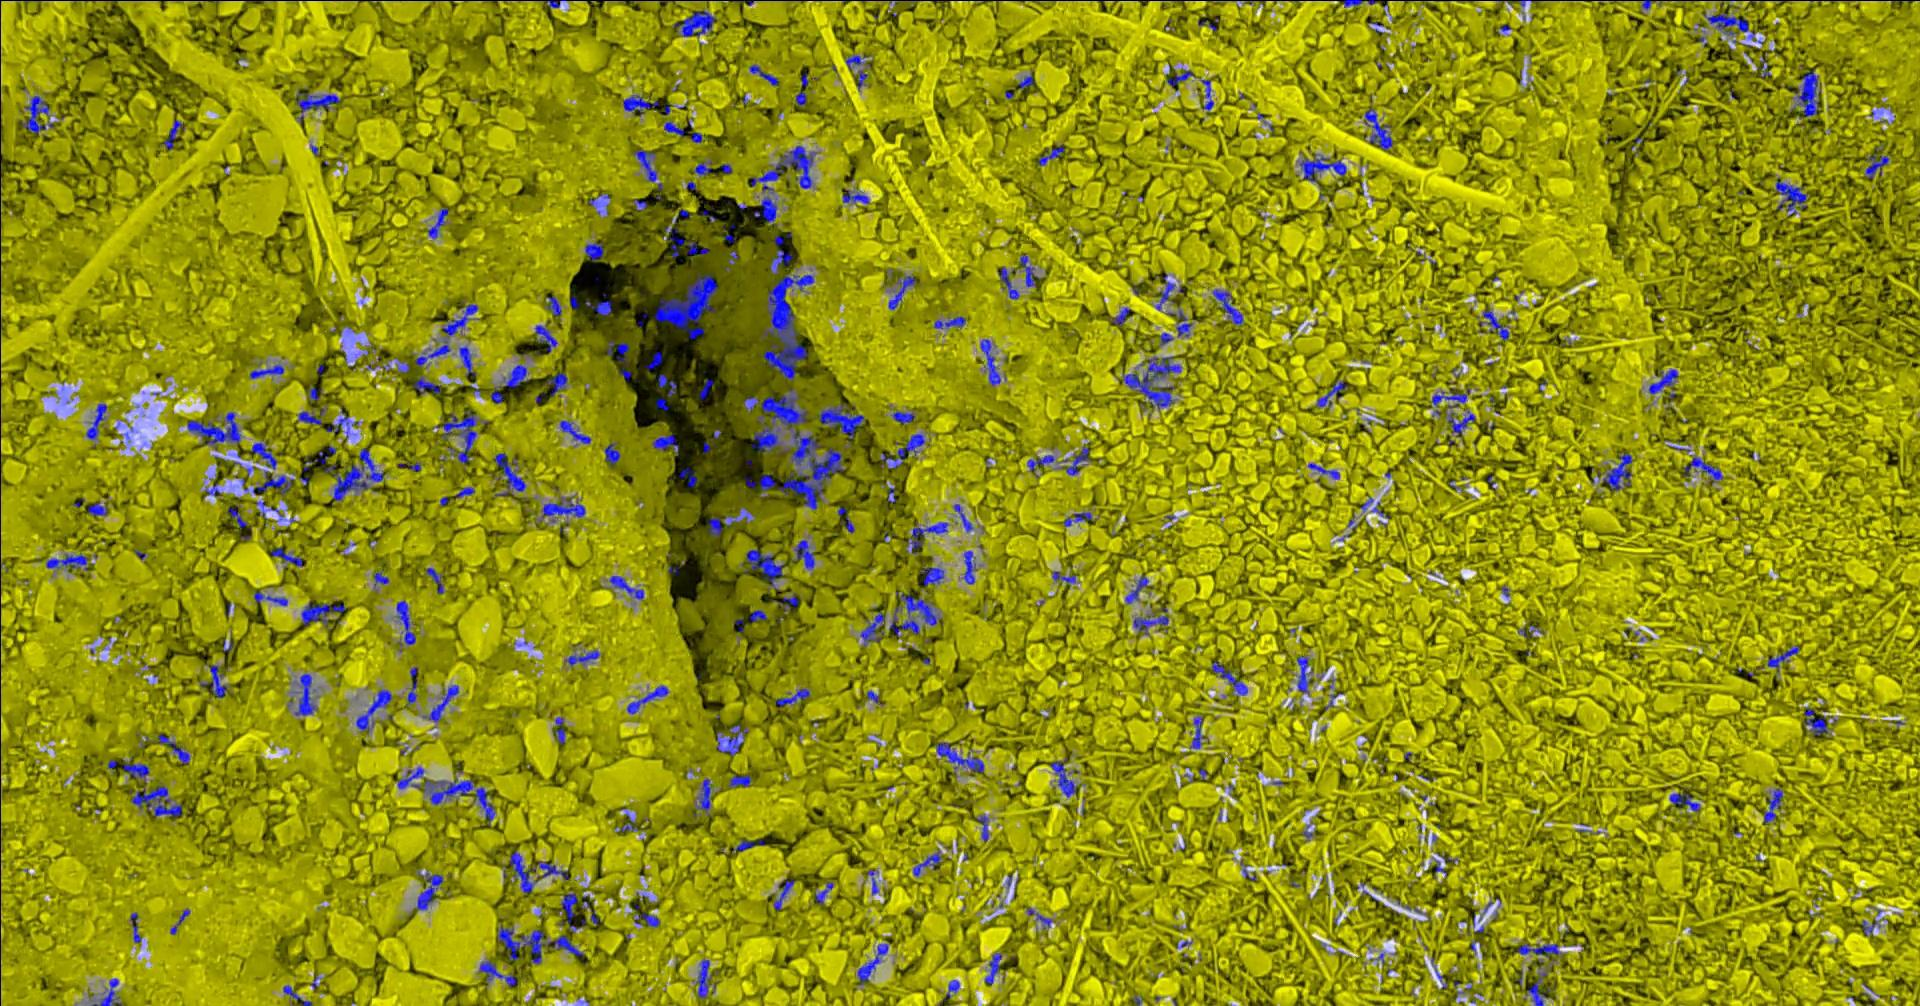ant: (415, 304, 477, 367), (422, 779, 494, 826), (323, 447, 383, 500), (497, 926, 583, 963), (750, 145, 817, 192), (509, 850, 569, 892), (1431, 382, 1476, 436), (436, 412, 476, 464), (187, 412, 240, 450), (1702, 11, 1763, 44), (742, 549, 786, 592), (818, 404, 863, 445), (935, 742, 983, 776), (130, 785, 182, 815), (895, 589, 940, 625), (356, 688, 391, 733), (879, 433, 924, 467), (422, 683, 458, 721), (1596, 452, 1632, 492), (664, 226, 709, 257), (295, 91, 340, 121), (494, 452, 524, 495), (1299, 152, 1346, 180), (857, 942, 888, 984), (1363, 107, 1392, 150), (907, 522, 947, 553), (300, 601, 345, 627), (1211, 661, 1247, 695), (22, 95, 53, 133), (1775, 177, 1807, 215), (626, 685, 668, 713), (1796, 71, 1820, 119), (980, 338, 1004, 385), (1476, 305, 1509, 339), (1211, 290, 1243, 325), (888, 605, 923, 636), (673, 10, 715, 37), (604, 339, 631, 381), (1683, 456, 1722, 483), (1050, 757, 1077, 796), (415, 871, 442, 909), (325, 409, 358, 439), (396, 600, 415, 652), (479, 960, 516, 987), (157, 733, 189, 763), (541, 495, 585, 517), (251, 471, 293, 494), (1133, 607, 1168, 634), (858, 611, 885, 647), (716, 724, 747, 754), (888, 276, 916, 309), (770, 235, 792, 274), (248, 439, 277, 469), (295, 673, 315, 715), (1316, 380, 1347, 406), (1768, 645, 1799, 672), (608, 575, 643, 600), (44, 553, 88, 572), (1062, 446, 1090, 475), (557, 893, 578, 932), (91, 978, 121, 1005), (692, 779, 711, 819), (622, 94, 658, 116), (632, 149, 657, 180), (1528, 972, 1550, 1005), (696, 959, 715, 998), (85, 403, 105, 439), (1164, 309, 1191, 337), (912, 851, 941, 876), (559, 420, 590, 443), (997, 265, 1018, 298), (1125, 575, 1150, 603), (744, 474, 775, 497), (1026, 453, 1054, 478), (1803, 708, 1827, 735), (773, 876, 794, 909), (753, 196, 776, 225), (1648, 370, 1677, 392), (427, 207, 448, 238), (1763, 788, 1782, 822), (1018, 254, 1039, 286), (535, 325, 557, 353), (749, 64, 778, 85), (792, 539, 814, 568), (282, 984, 312, 1005), (584, 292, 611, 315), (775, 688, 809, 706), (122, 758, 149, 781), (270, 547, 302, 567), (458, 345, 476, 379), (1516, 942, 1558, 956), (1865, 152, 1888, 178), (503, 365, 528, 387), (1297, 655, 1312, 694), (1166, 69, 1192, 90), (565, 649, 599, 666), (163, 119, 182, 149), (1156, 281, 1175, 310), (397, 766, 423, 788), (1026, 907, 1051, 929), (984, 951, 1001, 984), (651, 434, 678, 455), (1062, 511, 1097, 526), (1669, 793, 1699, 810), (952, 503, 971, 531), (210, 666, 226, 697), (253, 589, 287, 605), (169, 908, 189, 934), (1037, 146, 1064, 165), (413, 375, 439, 394), (425, 567, 443, 594), (547, 372, 568, 396), (298, 406, 324, 426), (249, 365, 283, 379), (405, 666, 417, 708), (837, 506, 855, 532), (657, 373, 676, 398), (919, 567, 943, 586), (1307, 464, 1338, 478), (1189, 716, 1203, 748), (842, 187, 869, 203), (227, 506, 246, 528), (1200, 79, 1213, 112), (963, 550, 975, 583), (731, 838, 764, 851), (634, 911, 659, 927), (814, 882, 833, 903), (844, 55, 870, 70), (663, 121, 690, 135), (604, 443, 620, 467), (933, 316, 965, 328), (778, 592, 797, 611), (1109, 307, 1129, 325), (678, 466, 696, 486), (130, 912, 141, 942), (584, 243, 603, 260), (552, 716, 565, 743), (975, 814, 988, 841), (1051, 572, 1076, 586), (545, 296, 561, 316), (1338, 0, 1382, 8), (645, 351, 662, 370), (707, 516, 723, 536), (729, 774, 750, 788), (615, 819, 637, 832), (866, 869, 877, 894), (943, 979, 959, 998), (1641, 0, 1661, 14), (853, 70, 867, 90), (698, 379, 712, 399), (890, 412, 914, 423), (693, 160, 711, 175), (1862, 920, 1879, 935), (1017, 72, 1034, 88), (373, 569, 389, 586), (1500, 0, 1539, 6), (88, 502, 107, 514), (490, 385, 503, 403), (749, 608, 767, 621), (397, 462, 420, 471), (1159, 332, 1173, 345), (455, 486, 474, 497), (655, 398, 669, 410), (795, 90, 806, 105), (309, 387, 321, 400), (866, 690, 879, 702), (888, 486, 897, 503), (632, 199, 646, 210)
